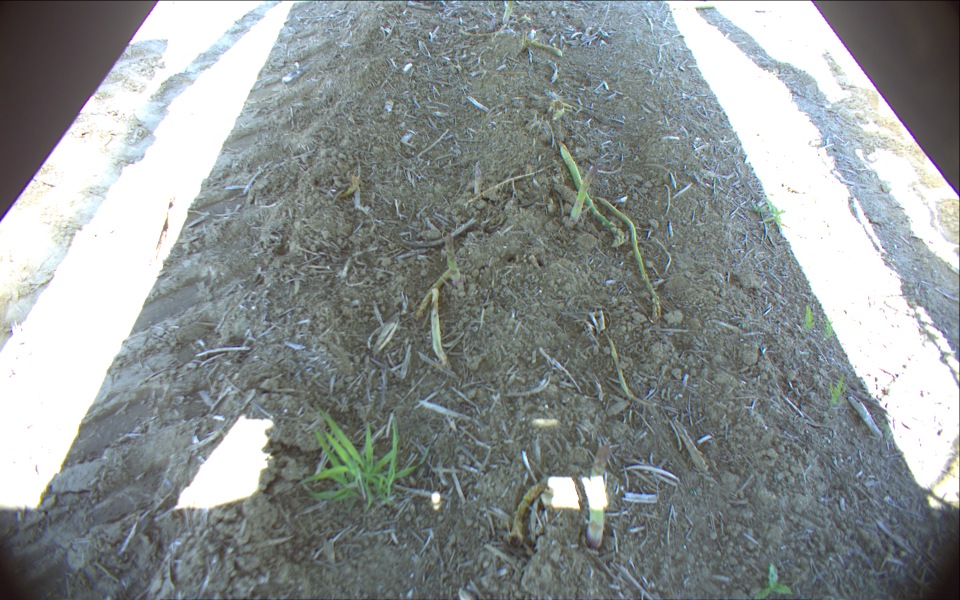aspa: (585, 440, 613, 551), (565, 162, 599, 227)
